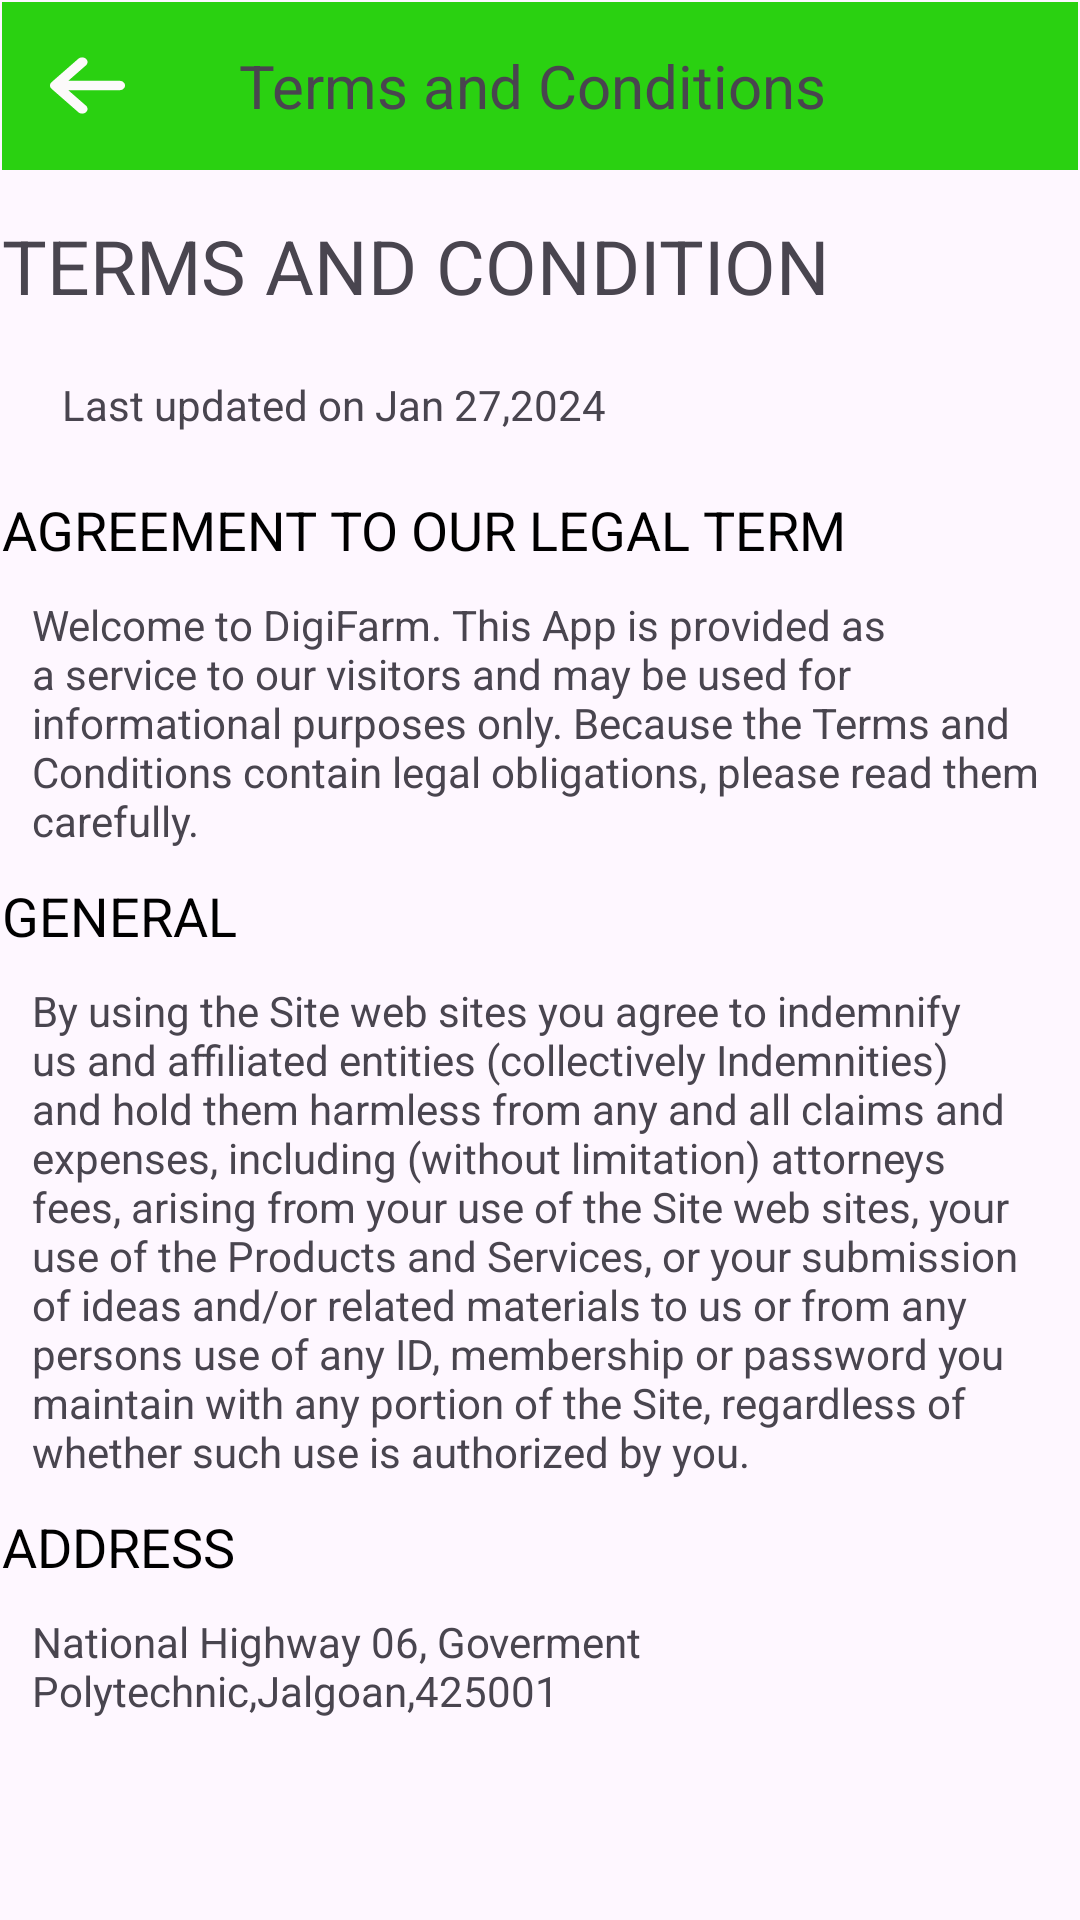

Screen size 1080 x 1920. Icon name, then its center in pixels as (x=x, y=y):
back arrow: (x=87, y=85)
